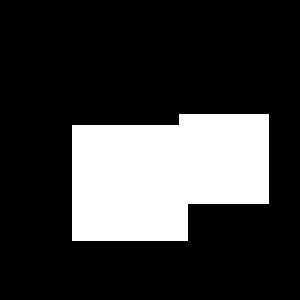circle: (72, 125, 188, 241), (179, 114, 269, 204)
